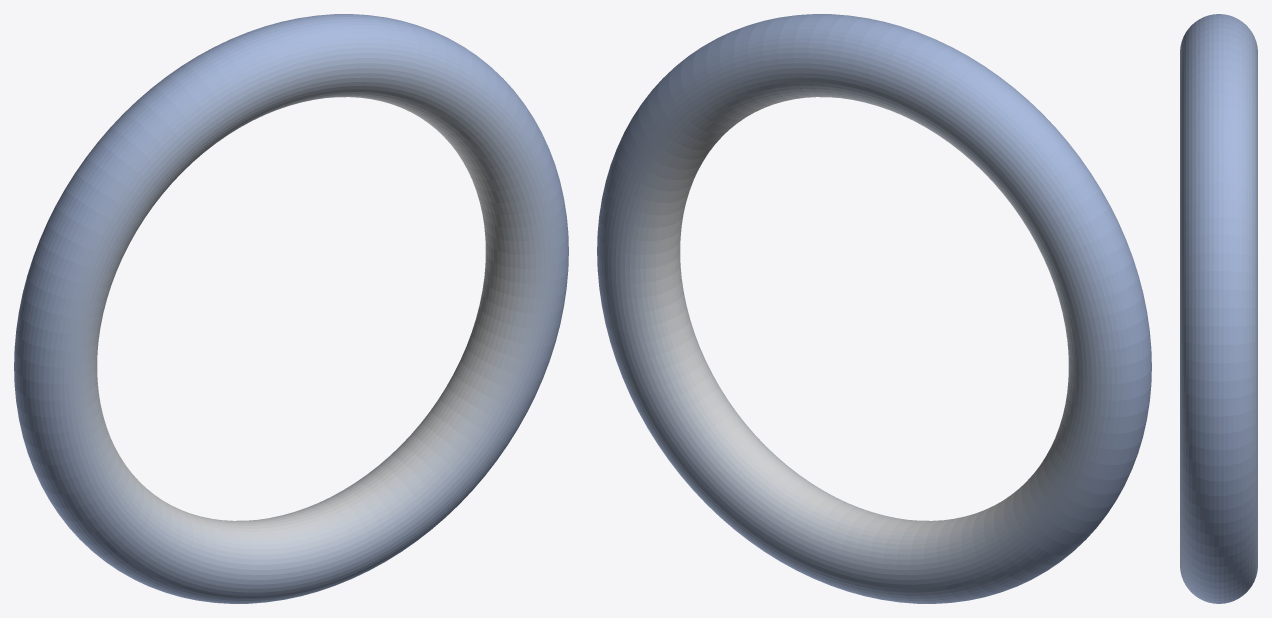
3 views of the same model, side by side, from view 1: azimuth 30°, elevation 25°; view 2: azimuth 150°, elevation 25°; view 3: azimuth 270°, elevation 25° (orthographic). The views are drawn at different scales.
Parts seen in each view (by area): view 1: world; view 2: world; view 3: world.
Part boxes in pixels (<box>): world: <box>14,14,568,603</box>; world: <box>597,14,1151,603</box>; world: <box>1180,14,1257,603</box>.
Bounding box in the file's own units: 29.2 × 29.2 × 3.86.
